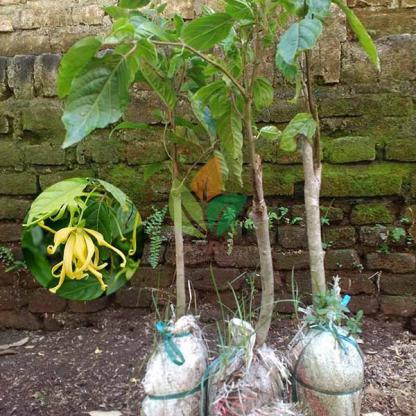Kenanga: (41, 214, 124, 285)
